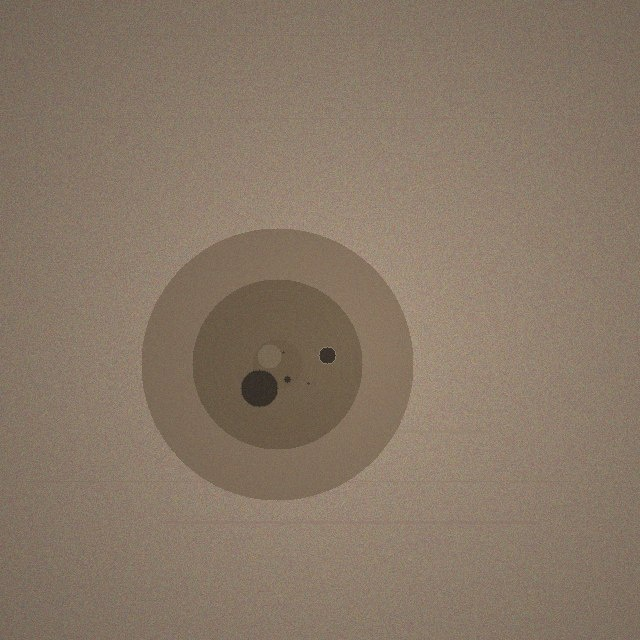shrinkage: (141, 228, 413, 500)
